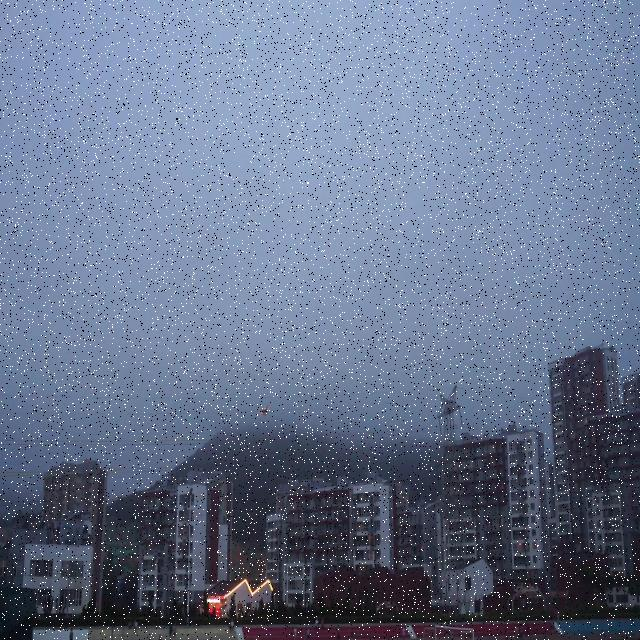UAV: (259, 405, 270, 416)
